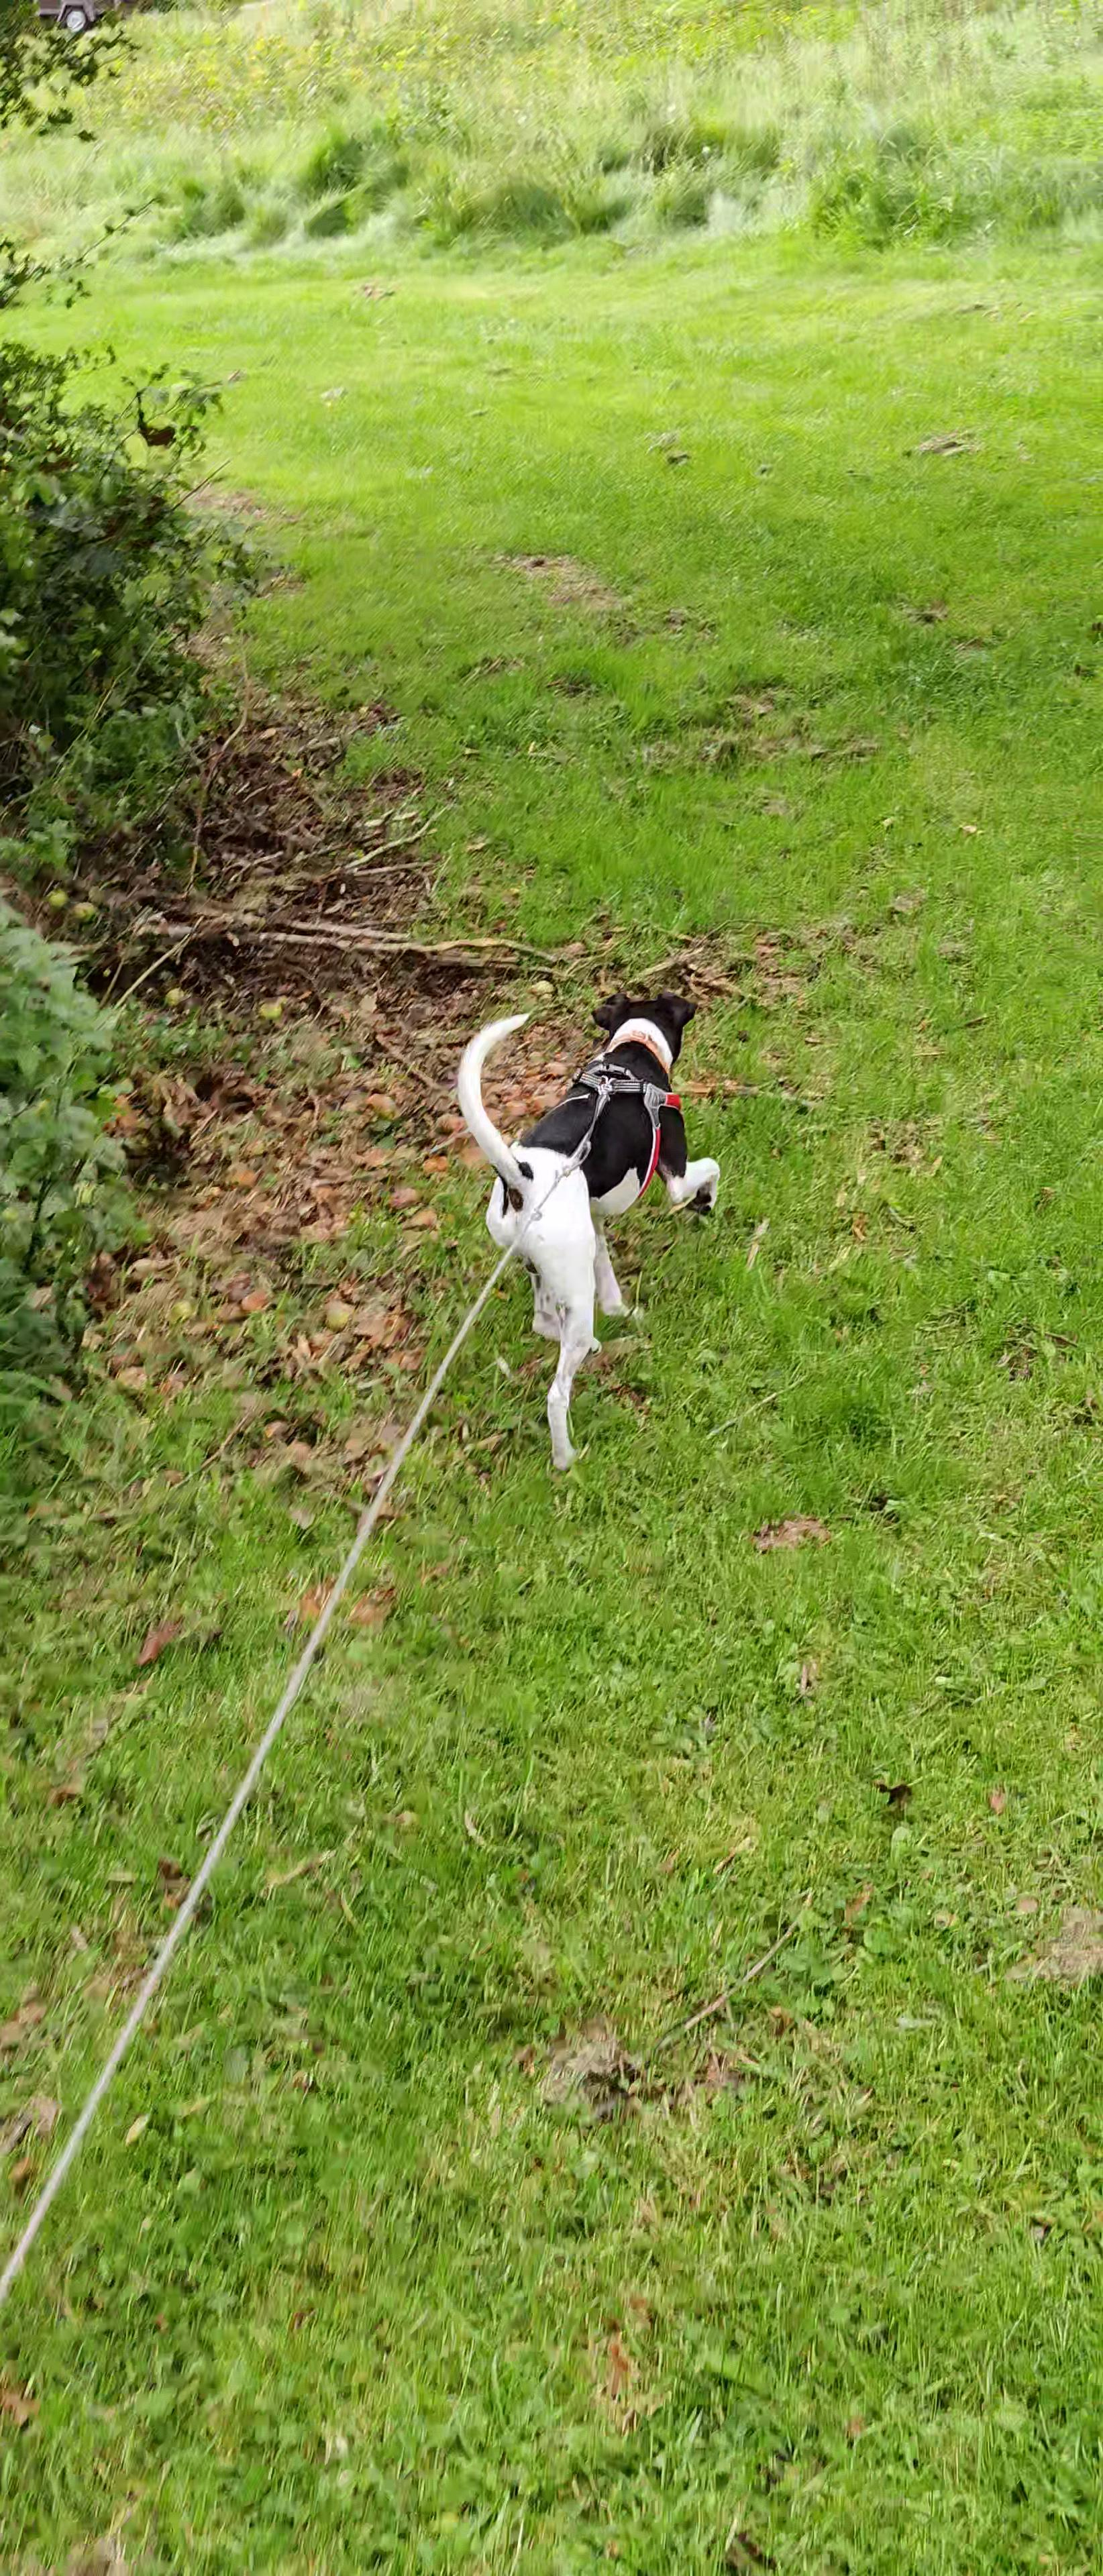Dog: (413, 969, 748, 1488)
